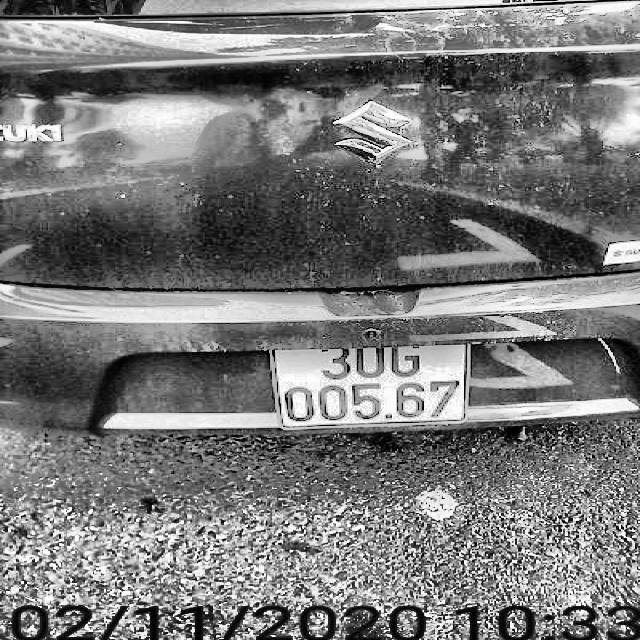plate: (270, 333, 478, 438)
